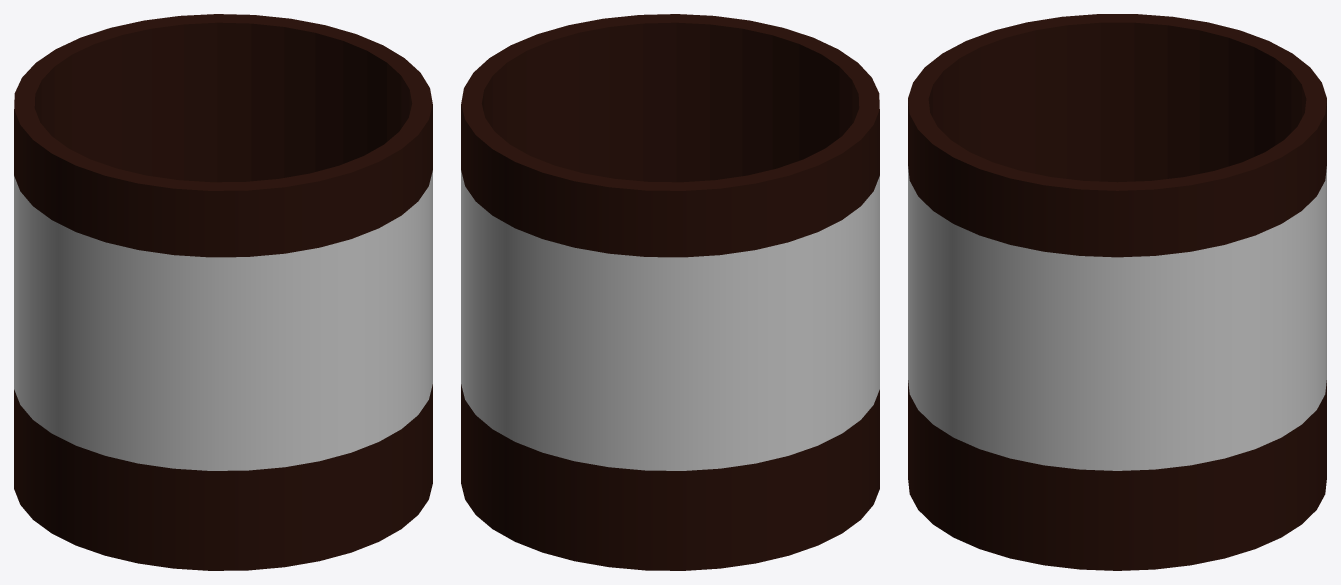
The model's file is basket.fbx.
The picture shows the model from 3 angles, left to right: view 1: azimuth 30°, elevation 25°; view 2: azimuth 150°, elevation 25°; view 3: azimuth 270°, elevation 25°; orthographic projection.
Parts seen in each view (by area): view 1: Kitchen_Tool_Bucket_for_Tools:pCylinder1; view 2: Kitchen_Tool_Bucket_for_Tools:pCylinder1; view 3: Kitchen_Tool_Bucket_for_Tools:pCylinder1.
Boxes of the visible parts, bbox=[...] form: Kitchen_Tool_Bucket_for_Tools:pCylinder1: bbox=[14, 14, 432, 570]; Kitchen_Tool_Bucket_for_Tools:pCylinder1: bbox=[461, 14, 879, 570]; Kitchen_Tool_Bucket_for_Tools:pCylinder1: bbox=[908, 14, 1326, 570].
Size of the model in its own units: 8.01 by 8.03 by 8.02.
